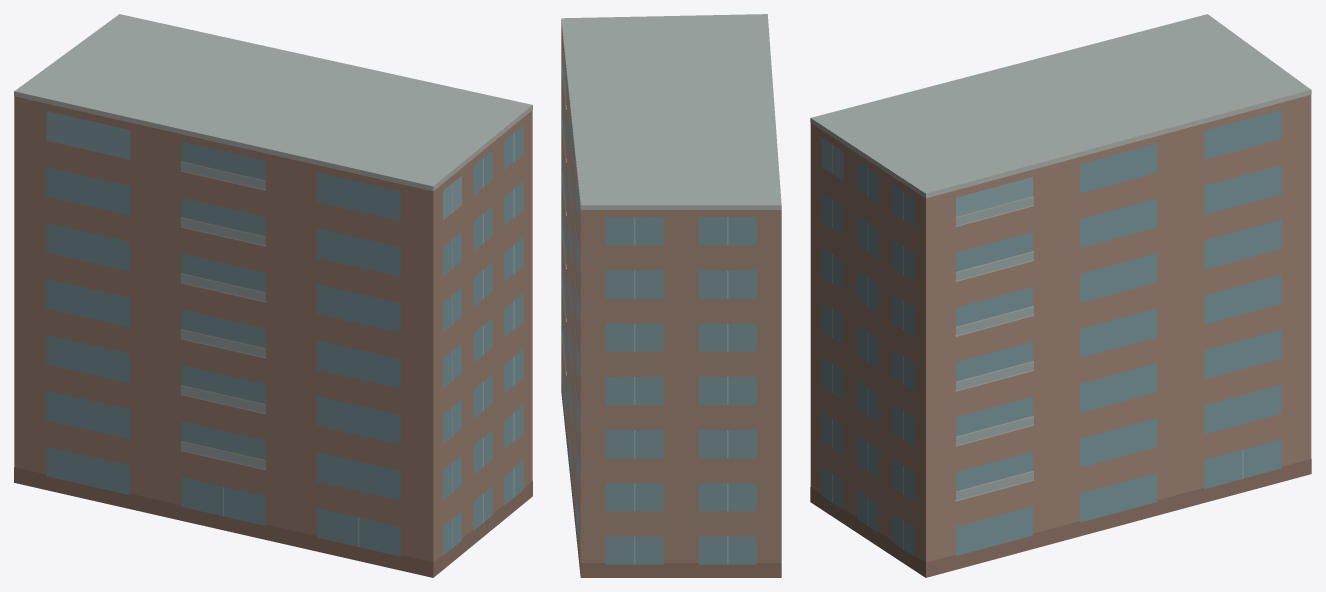
File: survey-upis-32865200.glb
3 views of the same model, side by side, from view 1: azimuth 30°, elevation 25°; view 2: azimuth 150°, elevation 25°; view 3: azimuth 270°, elevation 25° (orthographic). The views are drawn at different scales.
Parts seen in each view (by area): view 1: survey-upis-32865200.tmp; view 2: survey-upis-32865200.tmp; view 3: survey-upis-32865200.tmp.
Part boxes in pixels (bbox=[...]): survey-upis-32865200.tmp: bbox=[14, 14, 532, 577]; survey-upis-32865200.tmp: bbox=[561, 14, 781, 577]; survey-upis-32865200.tmp: bbox=[810, 14, 1311, 577].
Size of the model in its own units: 19.46 by 19.4 by 22.93.
